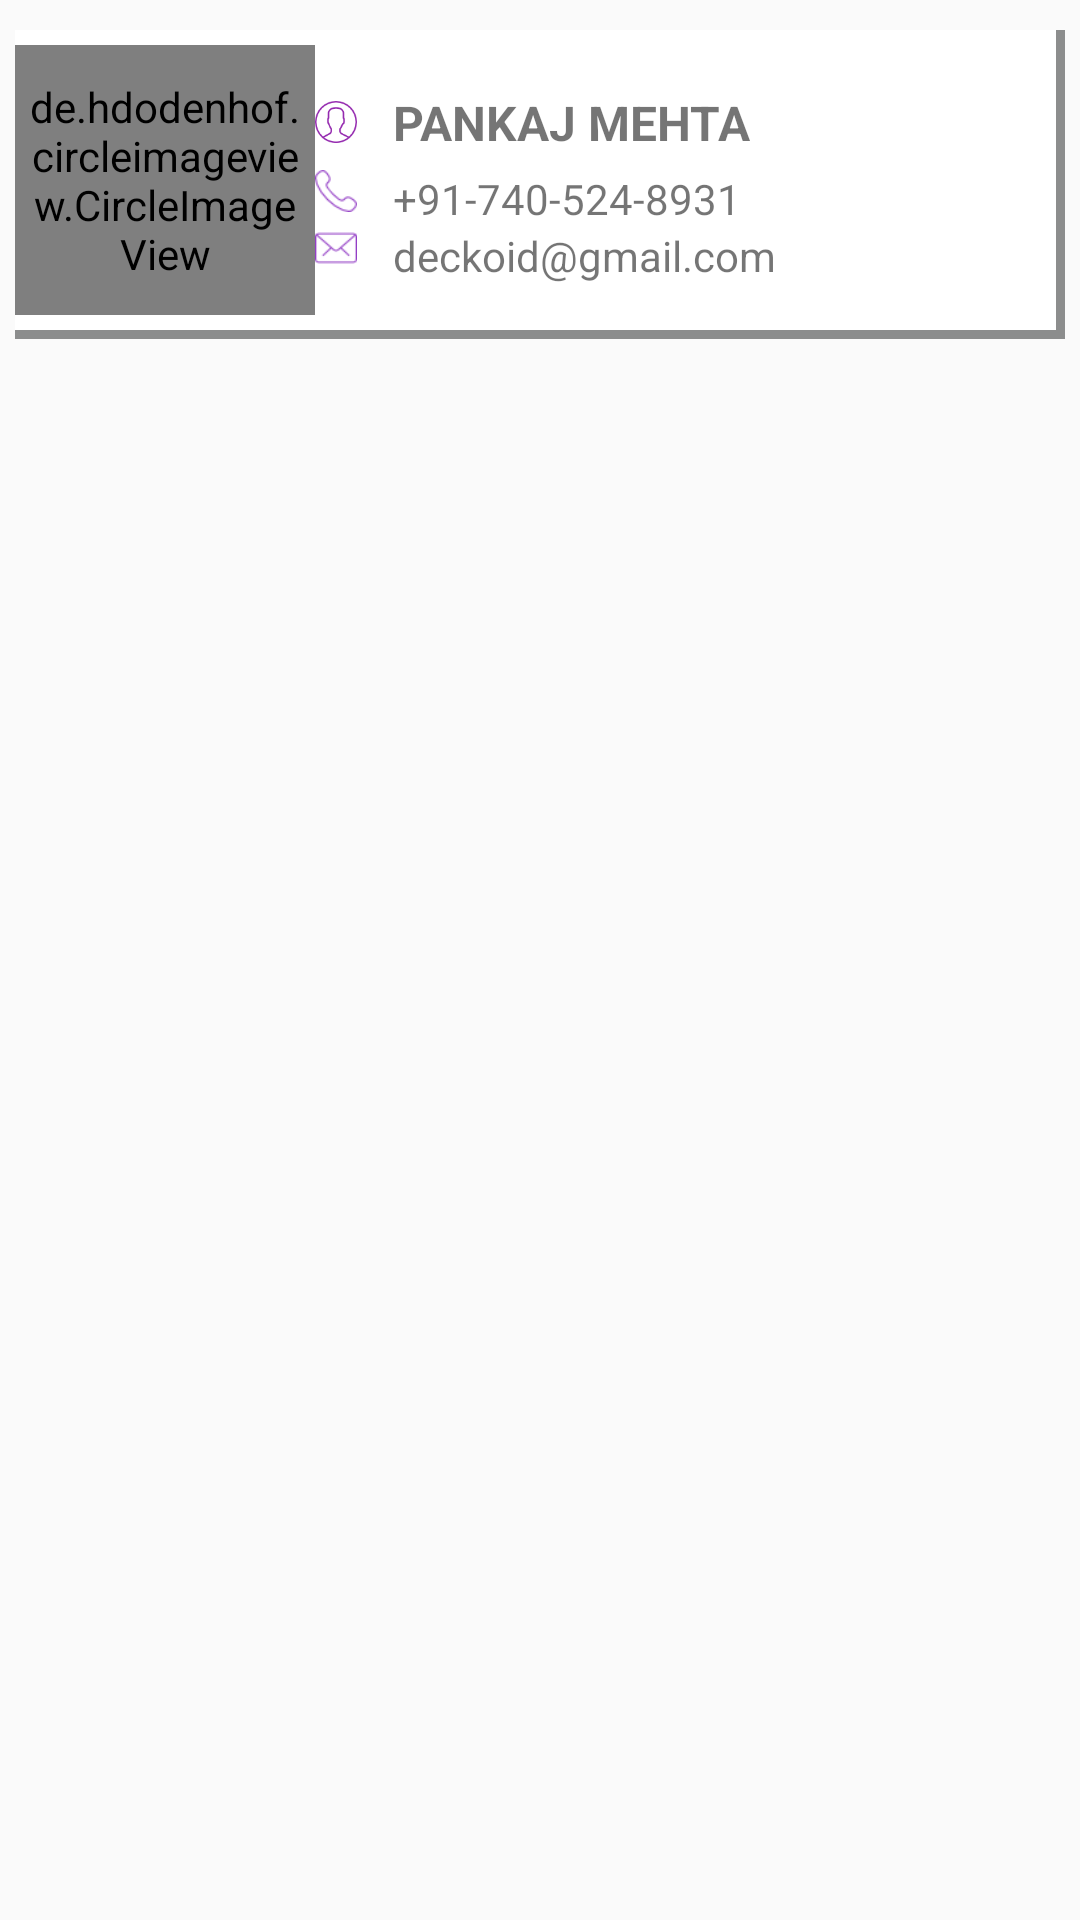

Screen size 1080*1920. Icon name, then its center in pixels as point (x, y):
contact no: point (336, 191)
email: point (336, 248)
user: point (336, 122)
